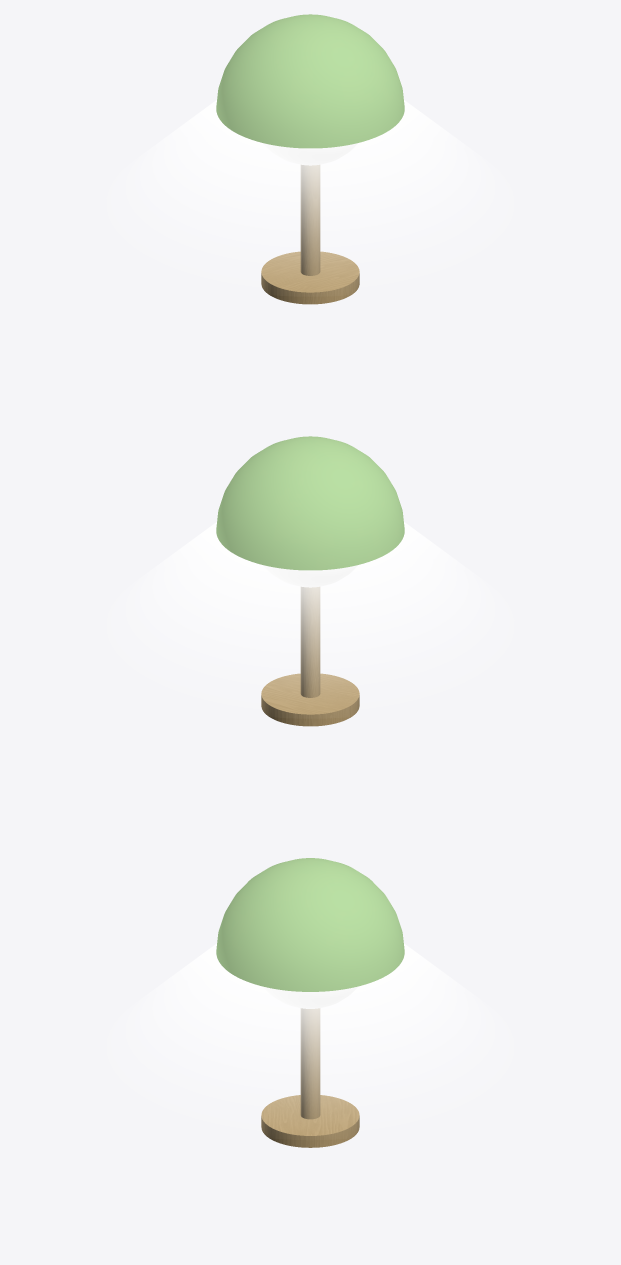
File: LAMP_Eiffel_GREEN_ON.glb
3 renders of one model, top to bottom at view 1: azimuth 30°, elevation 25°; view 2: azimuth 150°, elevation 25°; view 3: azimuth 270°, elevation 25°, orthographic.
Visible parts, largest first — view 1: LIGHT_DOWN.002, DOME, BASE2, DOME2; view 2: LIGHT_DOWN.002, DOME, BASE2, DOME2; view 3: LIGHT_DOWN.002, DOME, BASE2, DOME2.
Boxes of the visible parts, left/top/right/bottom form: LIGHT_DOWN.002: left=126, top=100, right=494, bottom=265; DOME: left=216, top=14, right=404, bottom=148; BASE2: left=261, top=165, right=359, bottom=304; DOME2: left=272, top=151, right=348, bottom=164; LIGHT_DOWN.002: left=126, top=522, right=494, bottom=687; DOME: left=216, top=436, right=404, bottom=570; BASE2: left=261, top=587, right=359, bottom=726; DOME2: left=272, top=573, right=348, bottom=586; LIGHT_DOWN.002: left=126, top=943, right=494, bottom=1108; DOME: left=216, top=858, right=404, bottom=991; BASE2: left=261, top=1009, right=359, bottom=1147; DOME2: left=271, top=994, right=349, bottom=1008.
Bounding box in the file's own units: 0.9063 × 0.439 × 0.9063.
5 materials, 5 textured.
